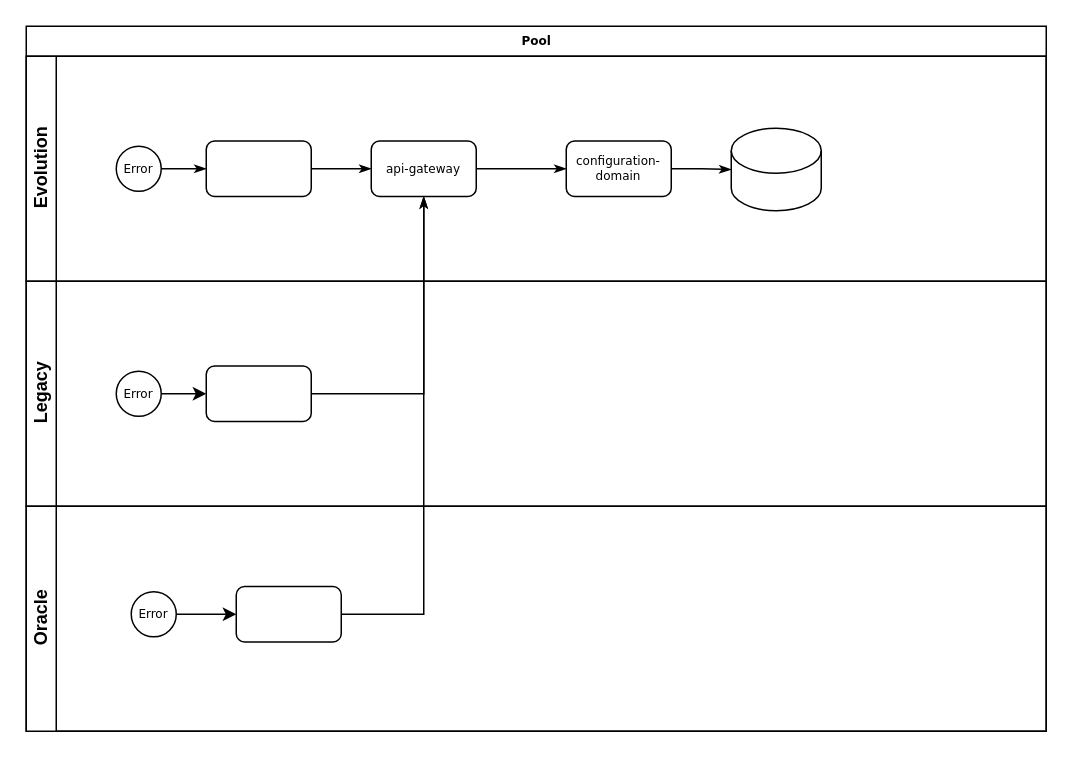
Some shapes in this 1073 by 758 pixel diagram are drawn without their labels. The centre of each missing label's shape, as x and y in pixels:
"ErrorController" belongs at (x=258, y=393).
"MongoDB" belongs at (x=775, y=169).
"ORDS" belongs at (x=288, y=613).
"Webapp" belongs at (x=258, y=168).
